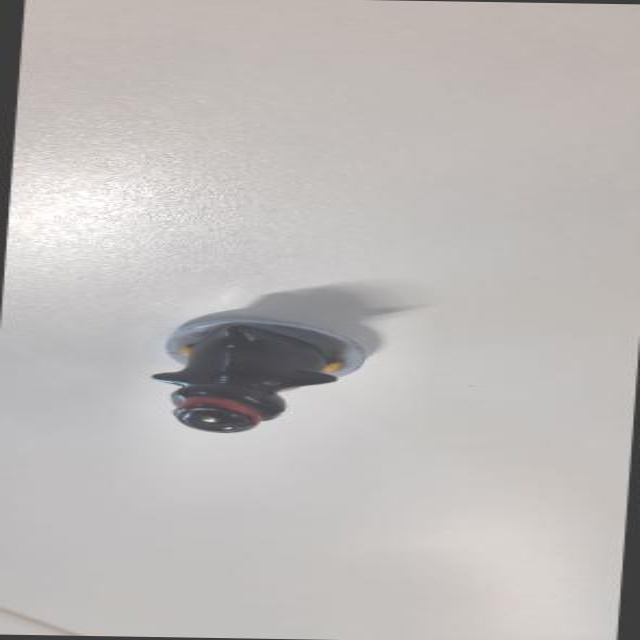Penguin: (148, 310, 373, 440)
